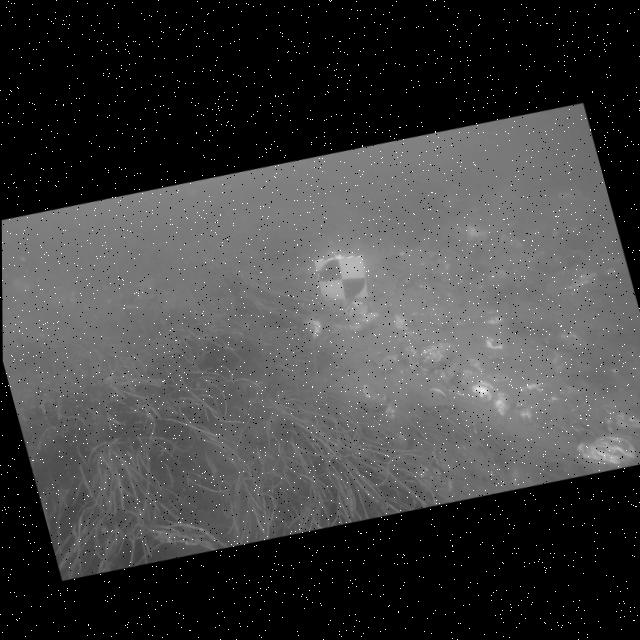Oyster-Closed: (452, 439, 501, 480), (576, 436, 635, 464), (421, 342, 456, 369), (346, 301, 378, 323), (401, 340, 420, 370), (362, 384, 387, 405), (378, 354, 398, 370)
Oyster-Indeterminate: (525, 375, 558, 414), (515, 401, 537, 430), (484, 337, 506, 359), (433, 365, 459, 383), (304, 318, 323, 339), (493, 392, 510, 415), (393, 312, 412, 330), (472, 384, 492, 401), (467, 358, 485, 371), (384, 402, 397, 420)
Oyster-Open: (424, 385, 454, 412), (430, 444, 453, 477), (346, 312, 378, 335), (409, 313, 417, 328)
